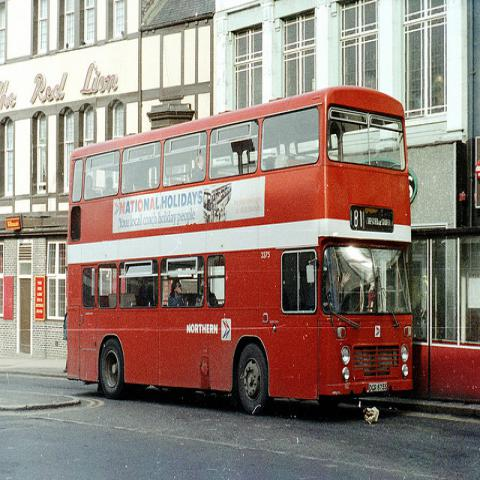bus: (68, 85, 413, 412)
